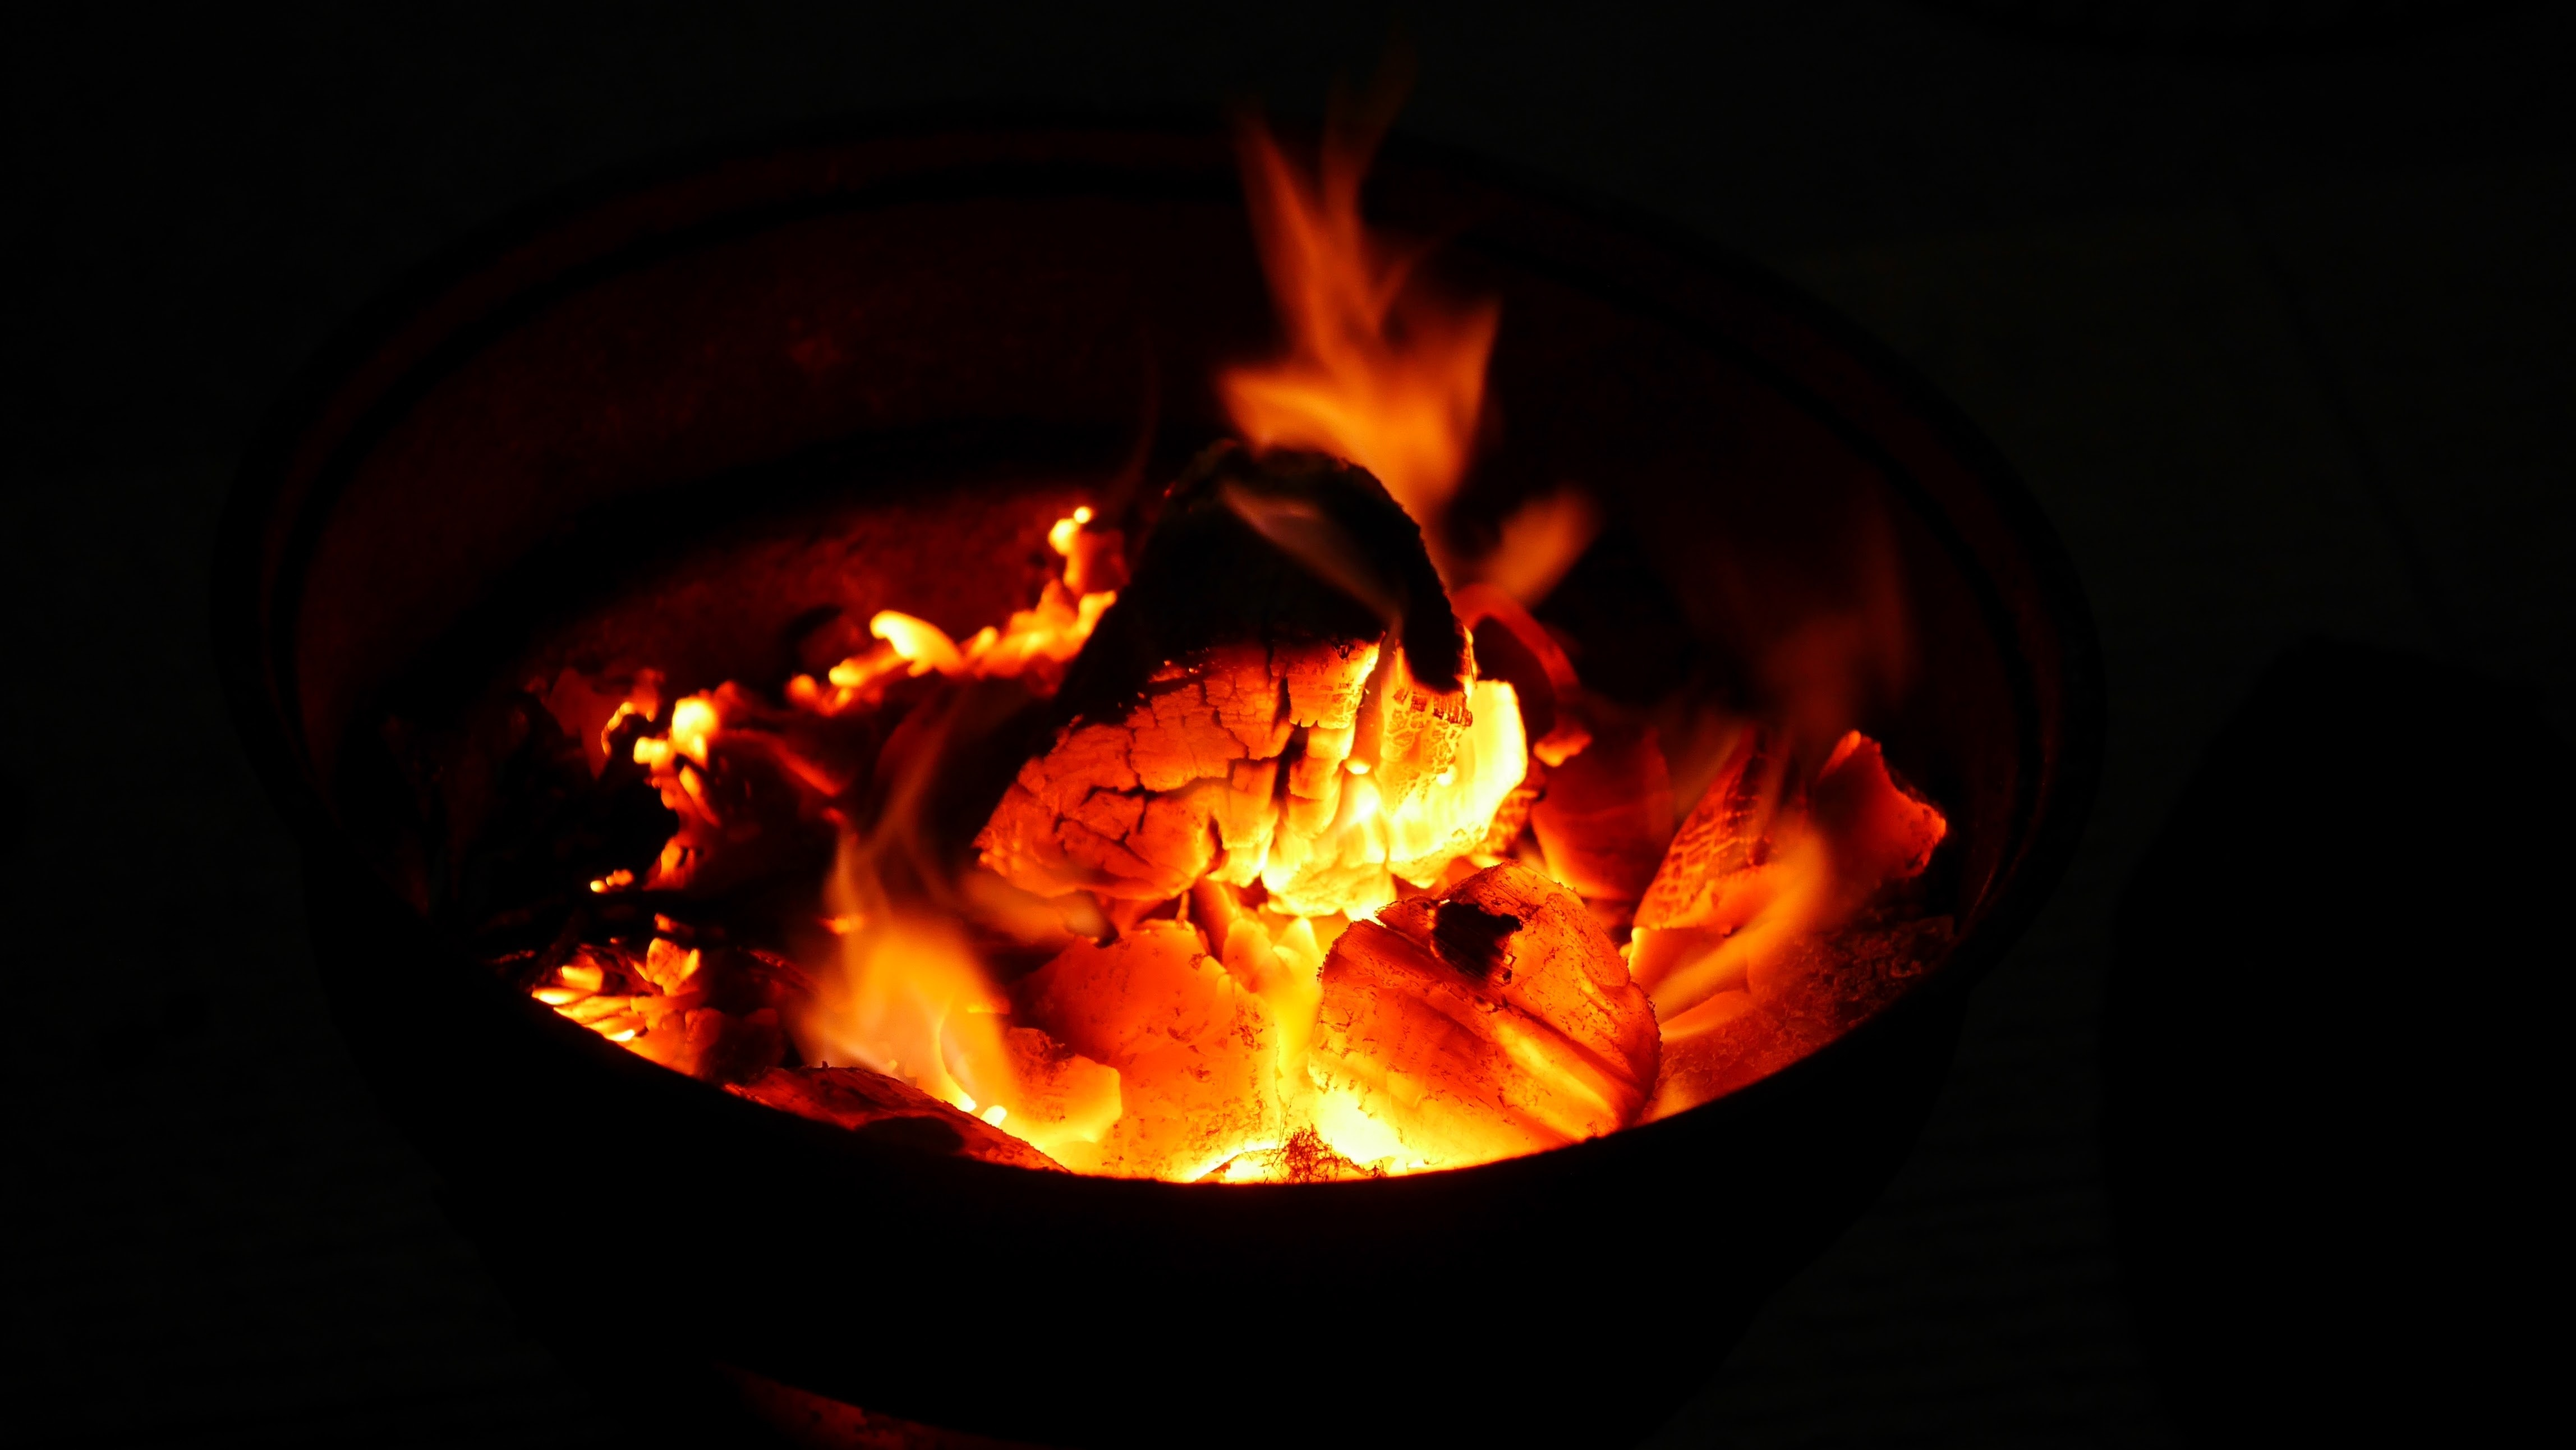fire: (557, 168, 1693, 1190)
